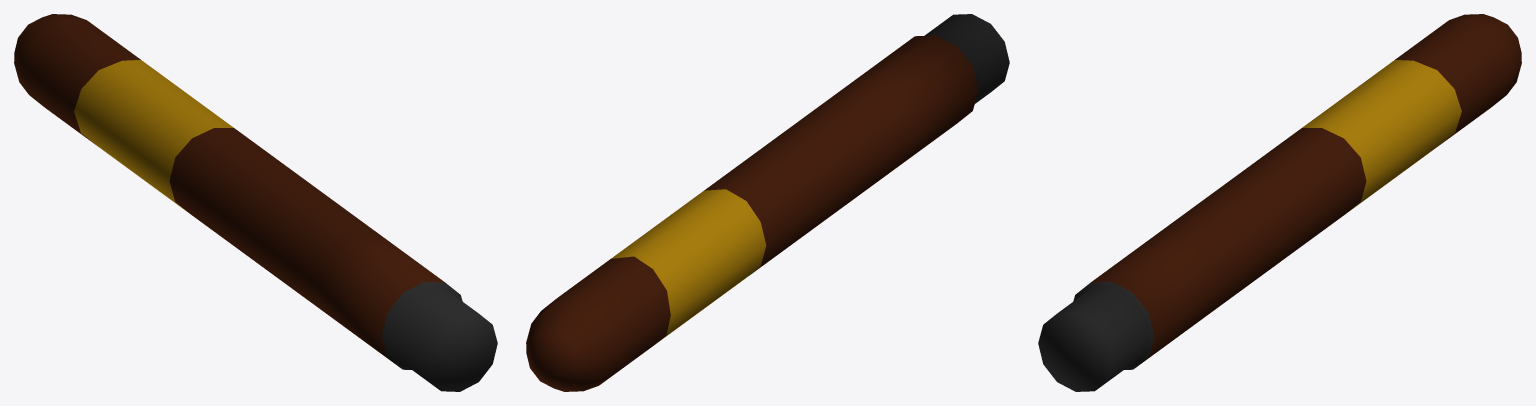
The model's file is Cigar.FBX.
3 renders of one model, left to right at view 1: azimuth 30°, elevation 25°; view 2: azimuth 150°, elevation 25°; view 3: azimuth 330°, elevation 25°, orthographic.
Visible parts, largest first — view 1: Cylinder001; view 2: Cylinder001; view 3: Cylinder001.
Boxes of the visible parts, bbox=[...] form: Cylinder001: bbox=[14, 14, 497, 391]; Cylinder001: bbox=[526, 14, 1009, 391]; Cylinder001: bbox=[1038, 14, 1521, 391].
Size of the model in its own units: 1.54 by 1.54 by 13.33.
